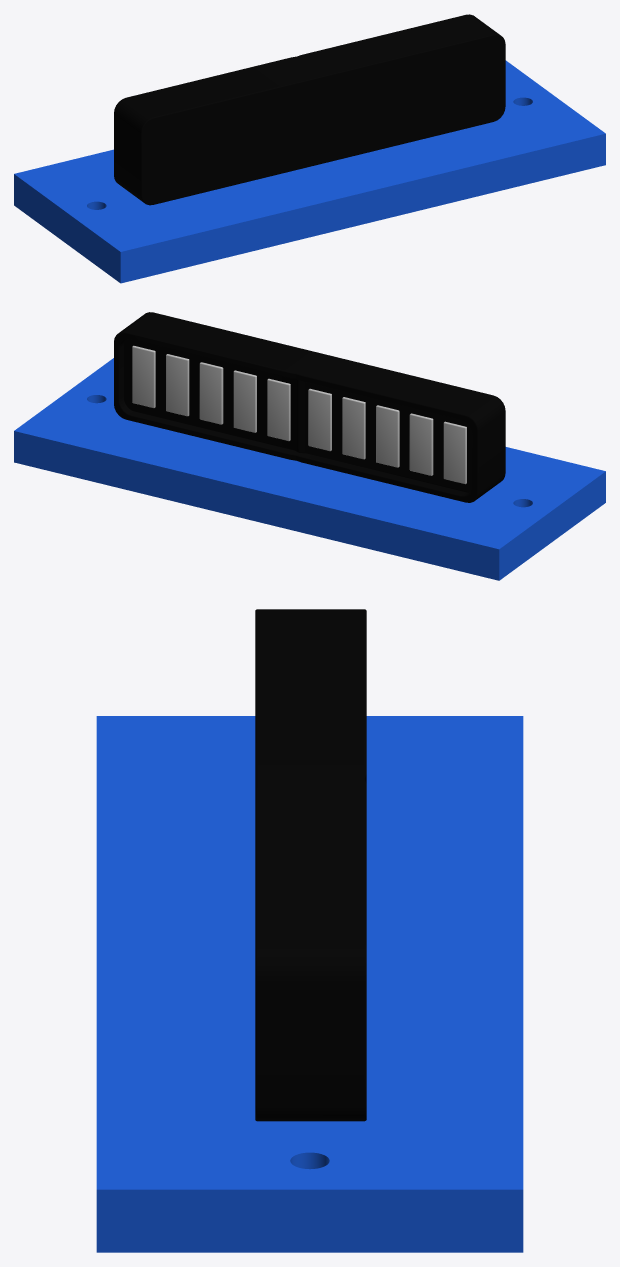
The model's file is indicator.fbx.
3 views of the same model, one above another, from view 1: azimuth 30°, elevation 25°; view 2: azimuth 150°, elevation 25°; view 3: azimuth 270°, elevation 25° (orthographic). The views are drawn at different scales.
Visible parts, largest first — view 1: indicator, Body.006; view 2: indicator, Body.006, +4, +1, +2, +3, +5; view 3: indicator, Body.006.
Boxes of the visible parts, box(x1,y1,x2,y2) form: indicator: box(14, 60, 605, 283); Body.006: box(114, 14, 505, 205); indicator: box(14, 358, 605, 580); Body.006: box(114, 312, 505, 502); +4: box(409, 413, 433, 475); +1: box(308, 388, 331, 451); +2: box(342, 397, 365, 459); +3: box(376, 405, 399, 467); +5: box(443, 421, 466, 484); indicator: box(96, 716, 523, 1252); Body.006: box(255, 609, 366, 1121).
Size of the model in its own units: 12.08 by 2.83 by 4.6.
